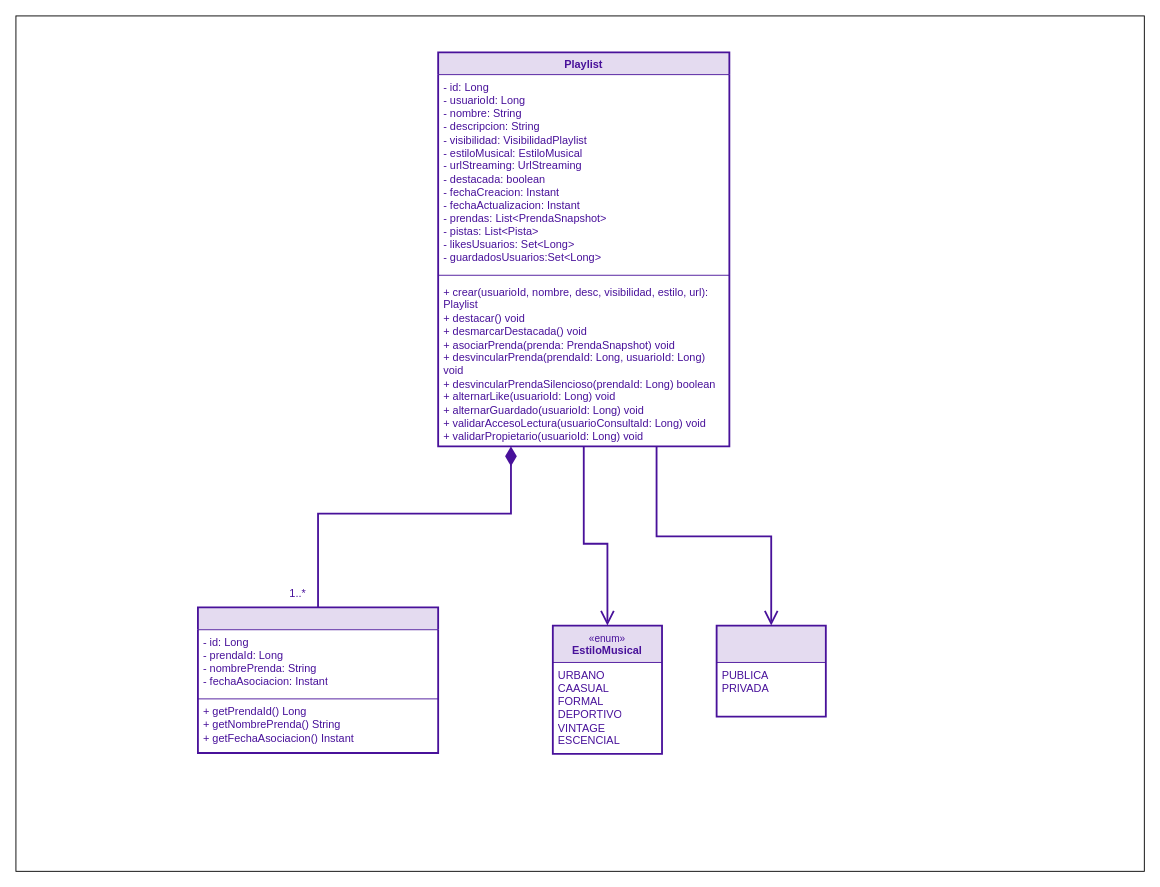
Image size: 1160x887. Some labels were removed from this diagram. Here are the shapes that lost their labels. From the top down, the box of each, then its label:
(197, 606, 439, 753): PrendaSnapshot
(715, 624, 826, 717): «enum» VisibilidadPlaylist
